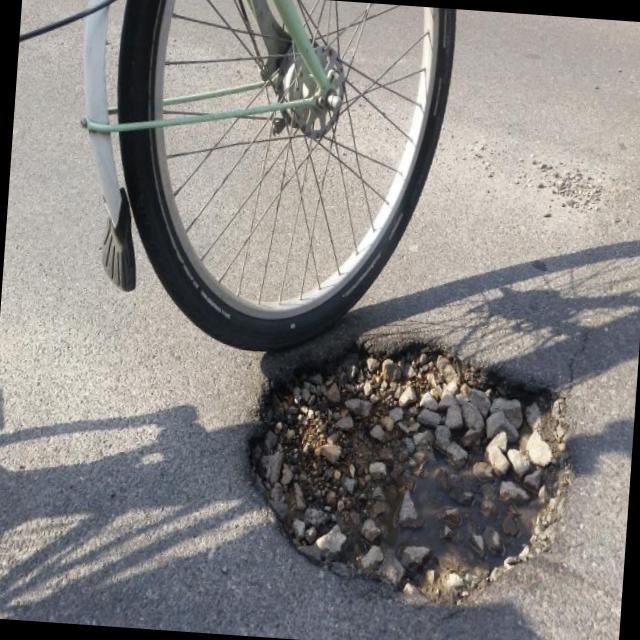Potholes: (228, 301, 596, 637)
